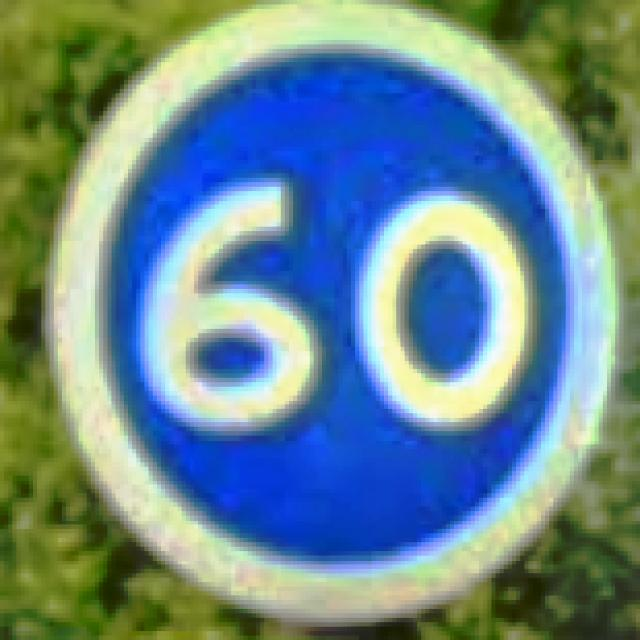min60: (37, 0, 624, 627)
